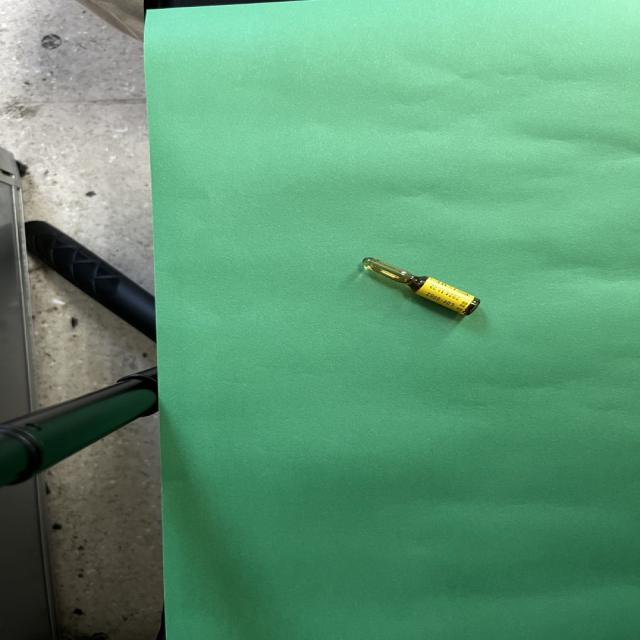Ampoules: (363, 258, 479, 315)
